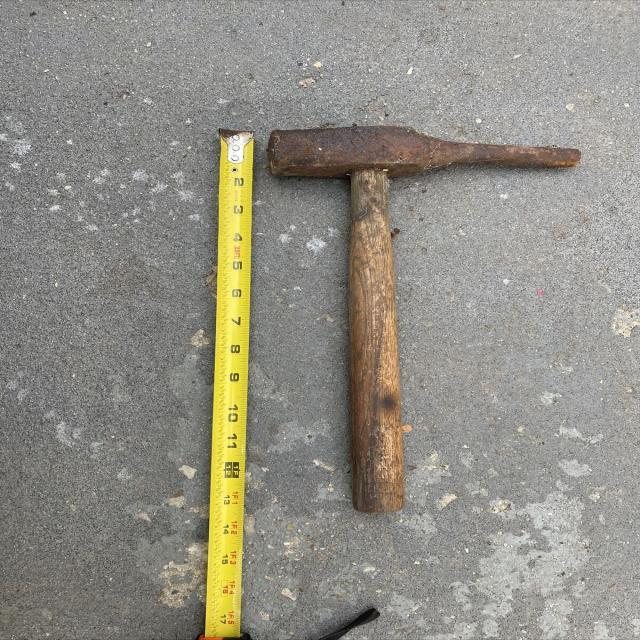hammer: (263, 106, 586, 518)
